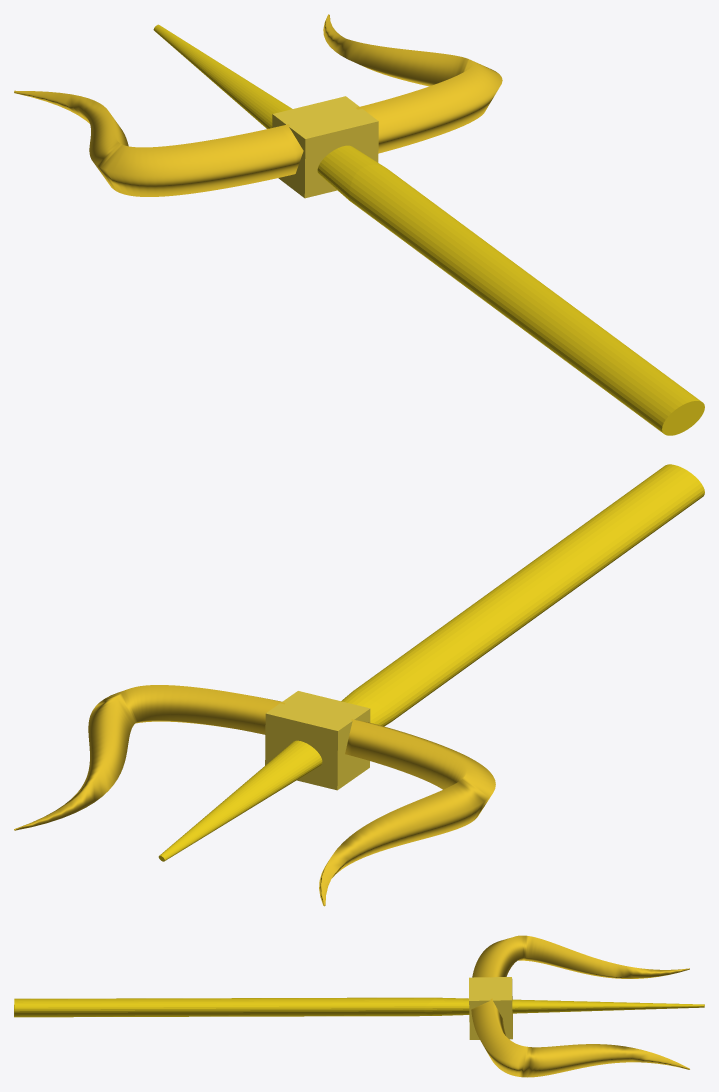
Rendered from Trident.fbx.
3 views of the same model, one above another, from view 1: azimuth 30°, elevation 25°; view 2: azimuth 150°, elevation 25°; view 3: azimuth 270°, elevation 25° (orthographic). The views are drawn at different scales.
Parts seen in each view (by area): view 1: Cylinder; view 2: Cylinder; view 3: Cylinder.
Boxes of the visible parts, bbox=[...] form: Cylinder: bbox=[14, 14, 704, 435]; Cylinder: bbox=[14, 464, 704, 906]; Cylinder: bbox=[14, 935, 704, 1077].
Size of the model in its own units: 270 by 40.05 by 625.
